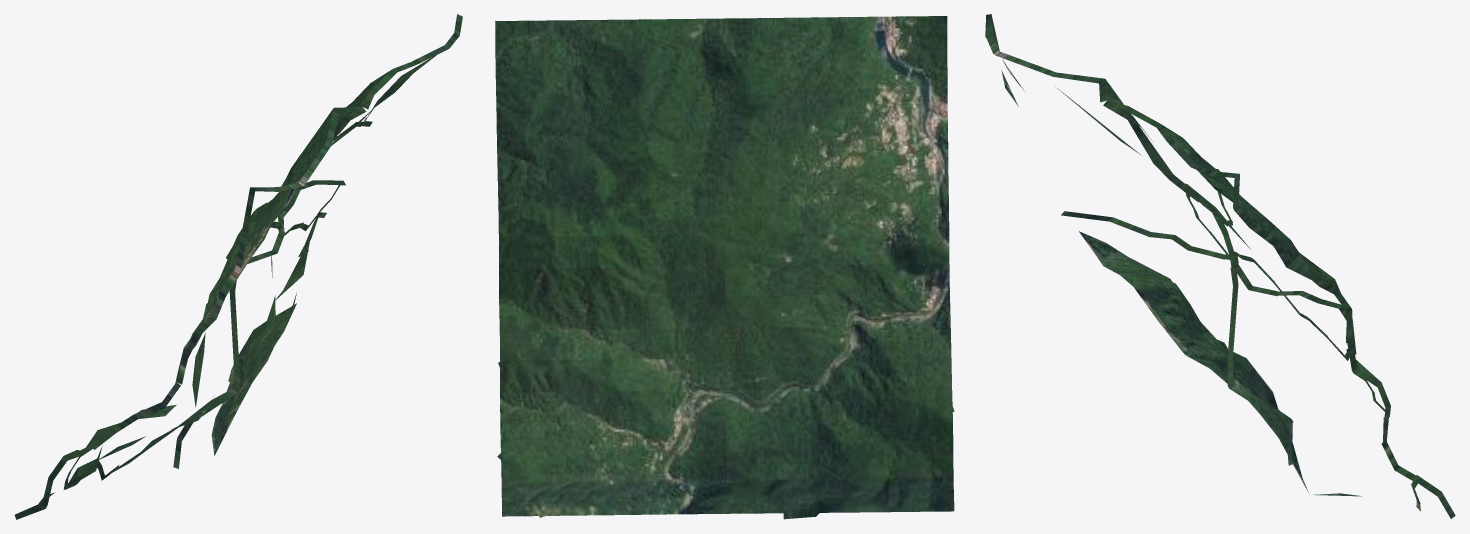
3 views of the same model, side by side, from view 1: azimuth 30°, elevation 25°; view 2: azimuth 150°, elevation 25°; view 3: azimuth 270°, elevation 25° (orthographic). The views are drawn at different scales.
Bounding box in the file's own units: 5173 × 4566 × 4548.
Materials: 1 (1 with a texture image).
